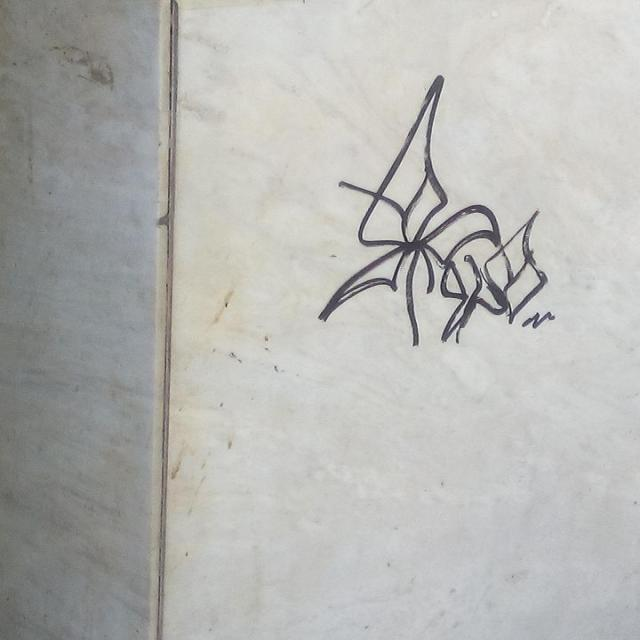nonspitting: (318, 76, 558, 346)
